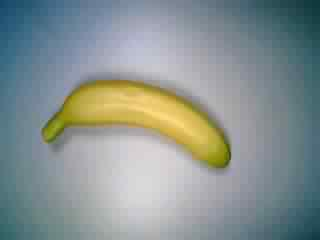banana: (36, 77, 238, 175)
